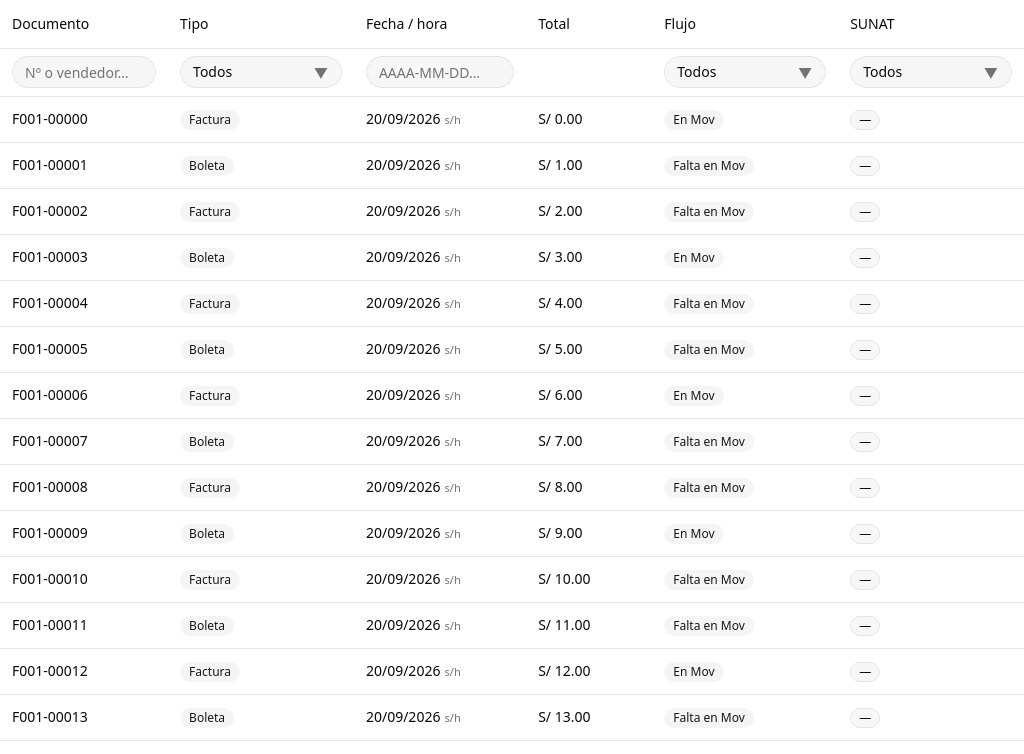
Test: DataTable interactions › sorts by column header
Note: "Total" is numeric, and TanStack sorts numeric columns descending first.
Click the button "Total". click: (562, 24)
box: left=538, top=14, right=587, bottom=34
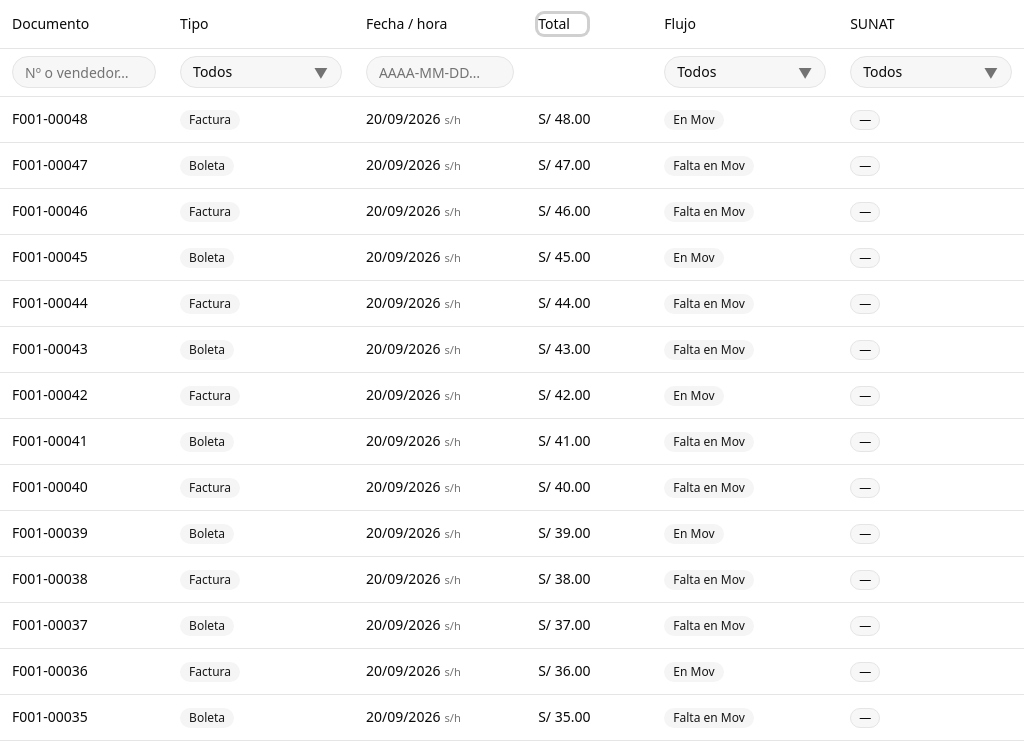
Check: the text with class "docnum" reads "F001-00048", box left=12, top=109, right=88, bottom=128
Click the button "Total". click: (562, 24)
box: left=538, top=14, right=587, bottom=34
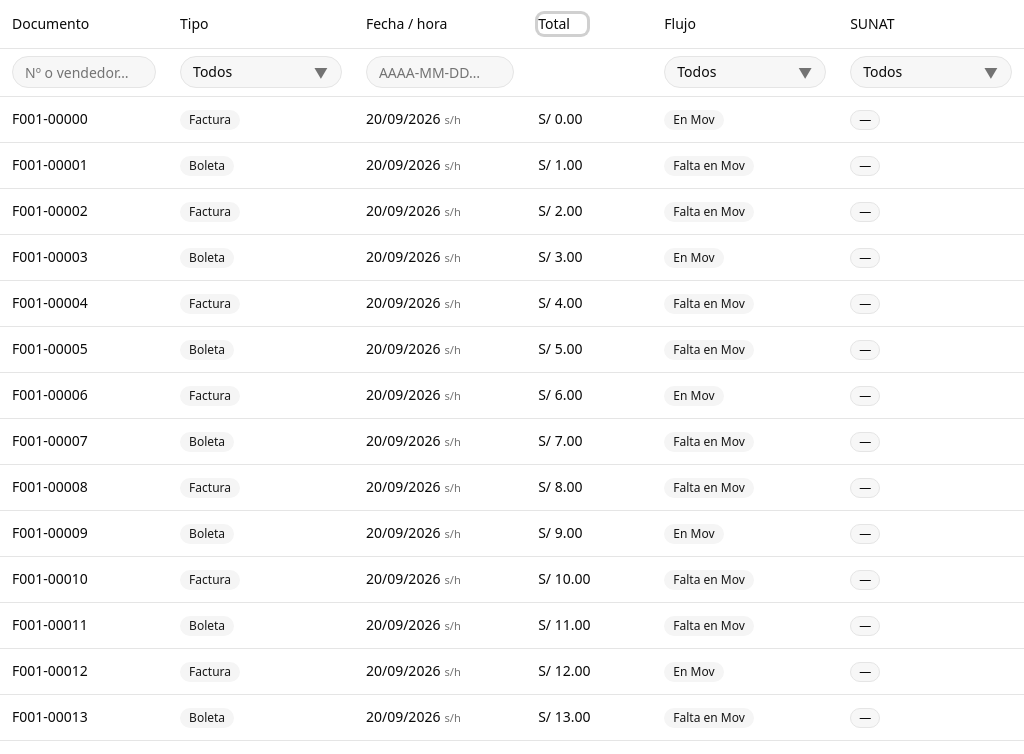
Check: the text with class "docnum" reads "F001-00000", box left=12, top=109, right=88, bottom=128
